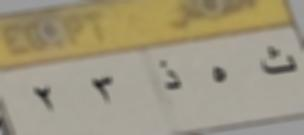2: (32, 82, 61, 115)
3: (90, 74, 120, 108)
haa: (203, 62, 231, 86)
thaa: (254, 43, 302, 75)
zaal: (154, 60, 183, 95)
